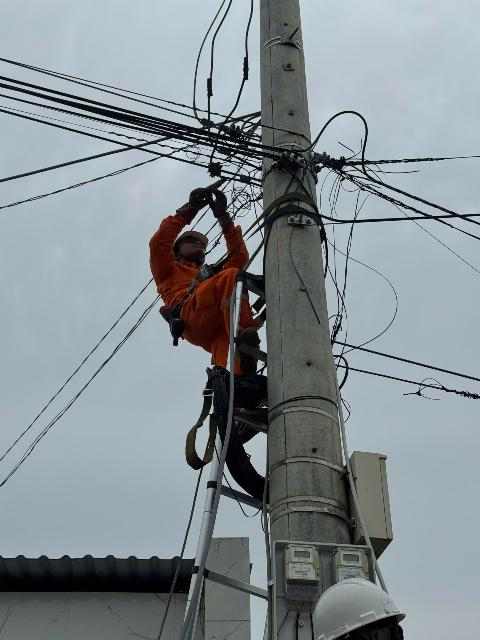gloves: (205, 186, 234, 222), (177, 187, 209, 218)
harness: (148, 268, 245, 311)
helmet: (172, 218, 223, 260)
shoes: (235, 323, 262, 377)
